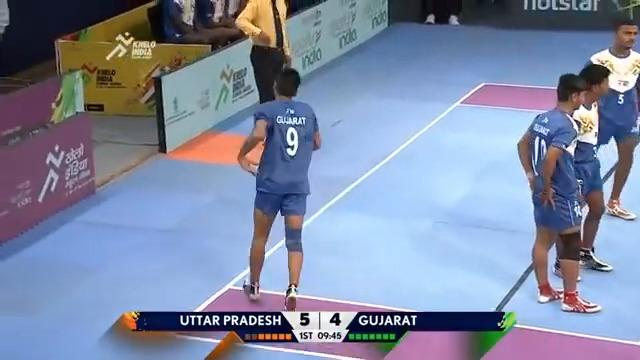Player: (236, 66, 321, 310), (516, 72, 602, 313), (551, 63, 614, 276), (586, 18, 639, 220)
referee: (234, 0, 292, 104), (421, 0, 462, 26)
